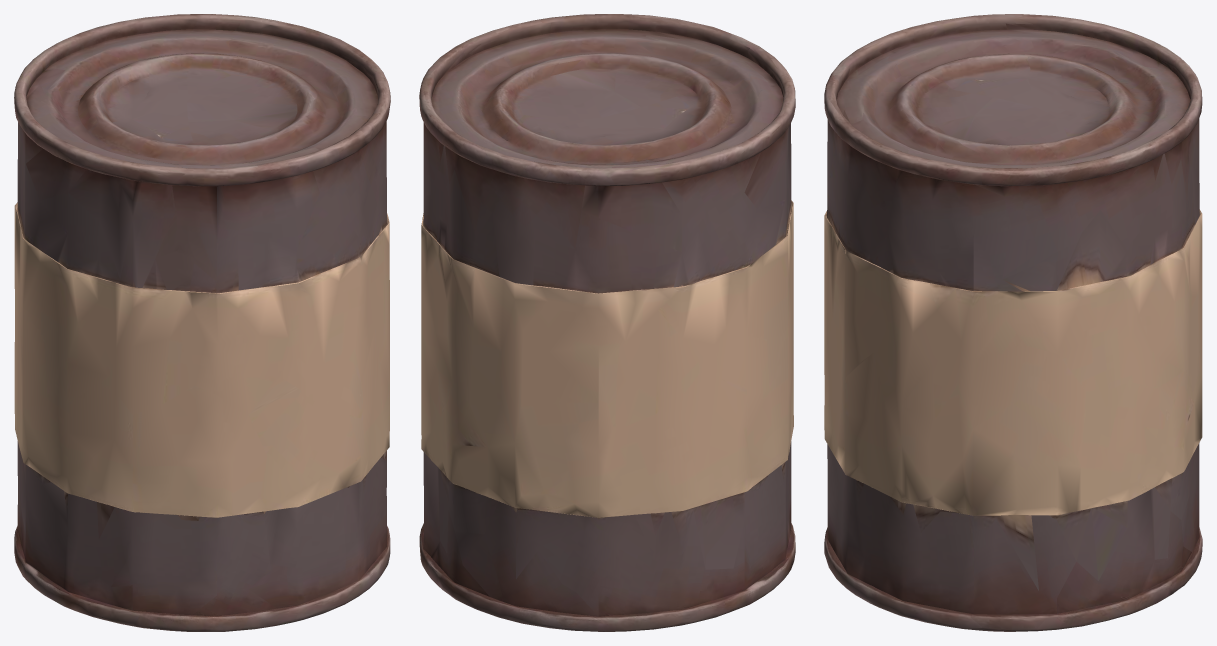
Rendered from decor_barrel_rusty_idle.glb.
3 renders of one model, left to right at view 1: azimuth 30°, elevation 25°; view 2: azimuth 150°, elevation 25°; view 3: azimuth 270°, elevation 25°, orthographic.
Visible parts, largest first — view 1: tripo_node_8444dd42-4b12-4708-b172-ba938117afb7; view 2: tripo_node_8444dd42-4b12-4708-b172-ba938117afb7; view 3: tripo_node_8444dd42-4b12-4708-b172-ba938117afb7.
Boxes of the visible parts, left/top/right/bottom form: tripo_node_8444dd42-4b12-4708-b172-ba938117afb7: left=14, top=14, right=390, bottom=631; tripo_node_8444dd42-4b12-4708-b172-ba938117afb7: left=419, top=14, right=795, bottom=631; tripo_node_8444dd42-4b12-4708-b172-ba938117afb7: left=824, top=14, right=1202, bottom=631.
Bounding box in the file's own units: 0.6665 × 0.9 × 0.6684.
1 material, 1 textured.
